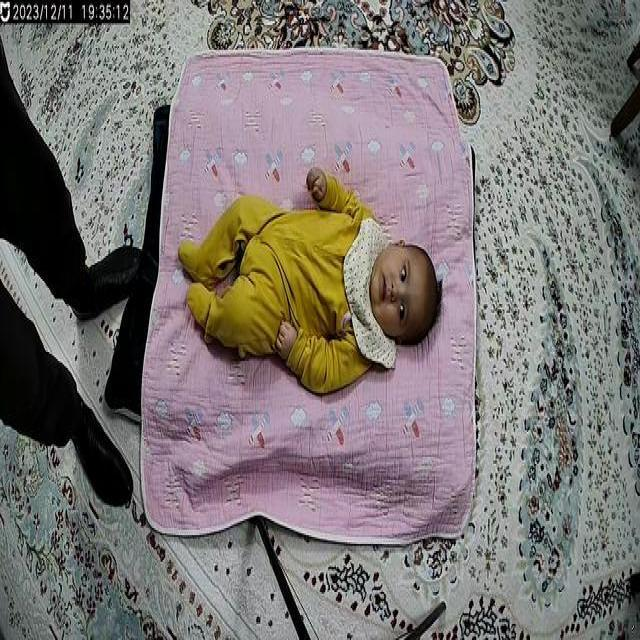baby: (175, 166, 443, 396)
